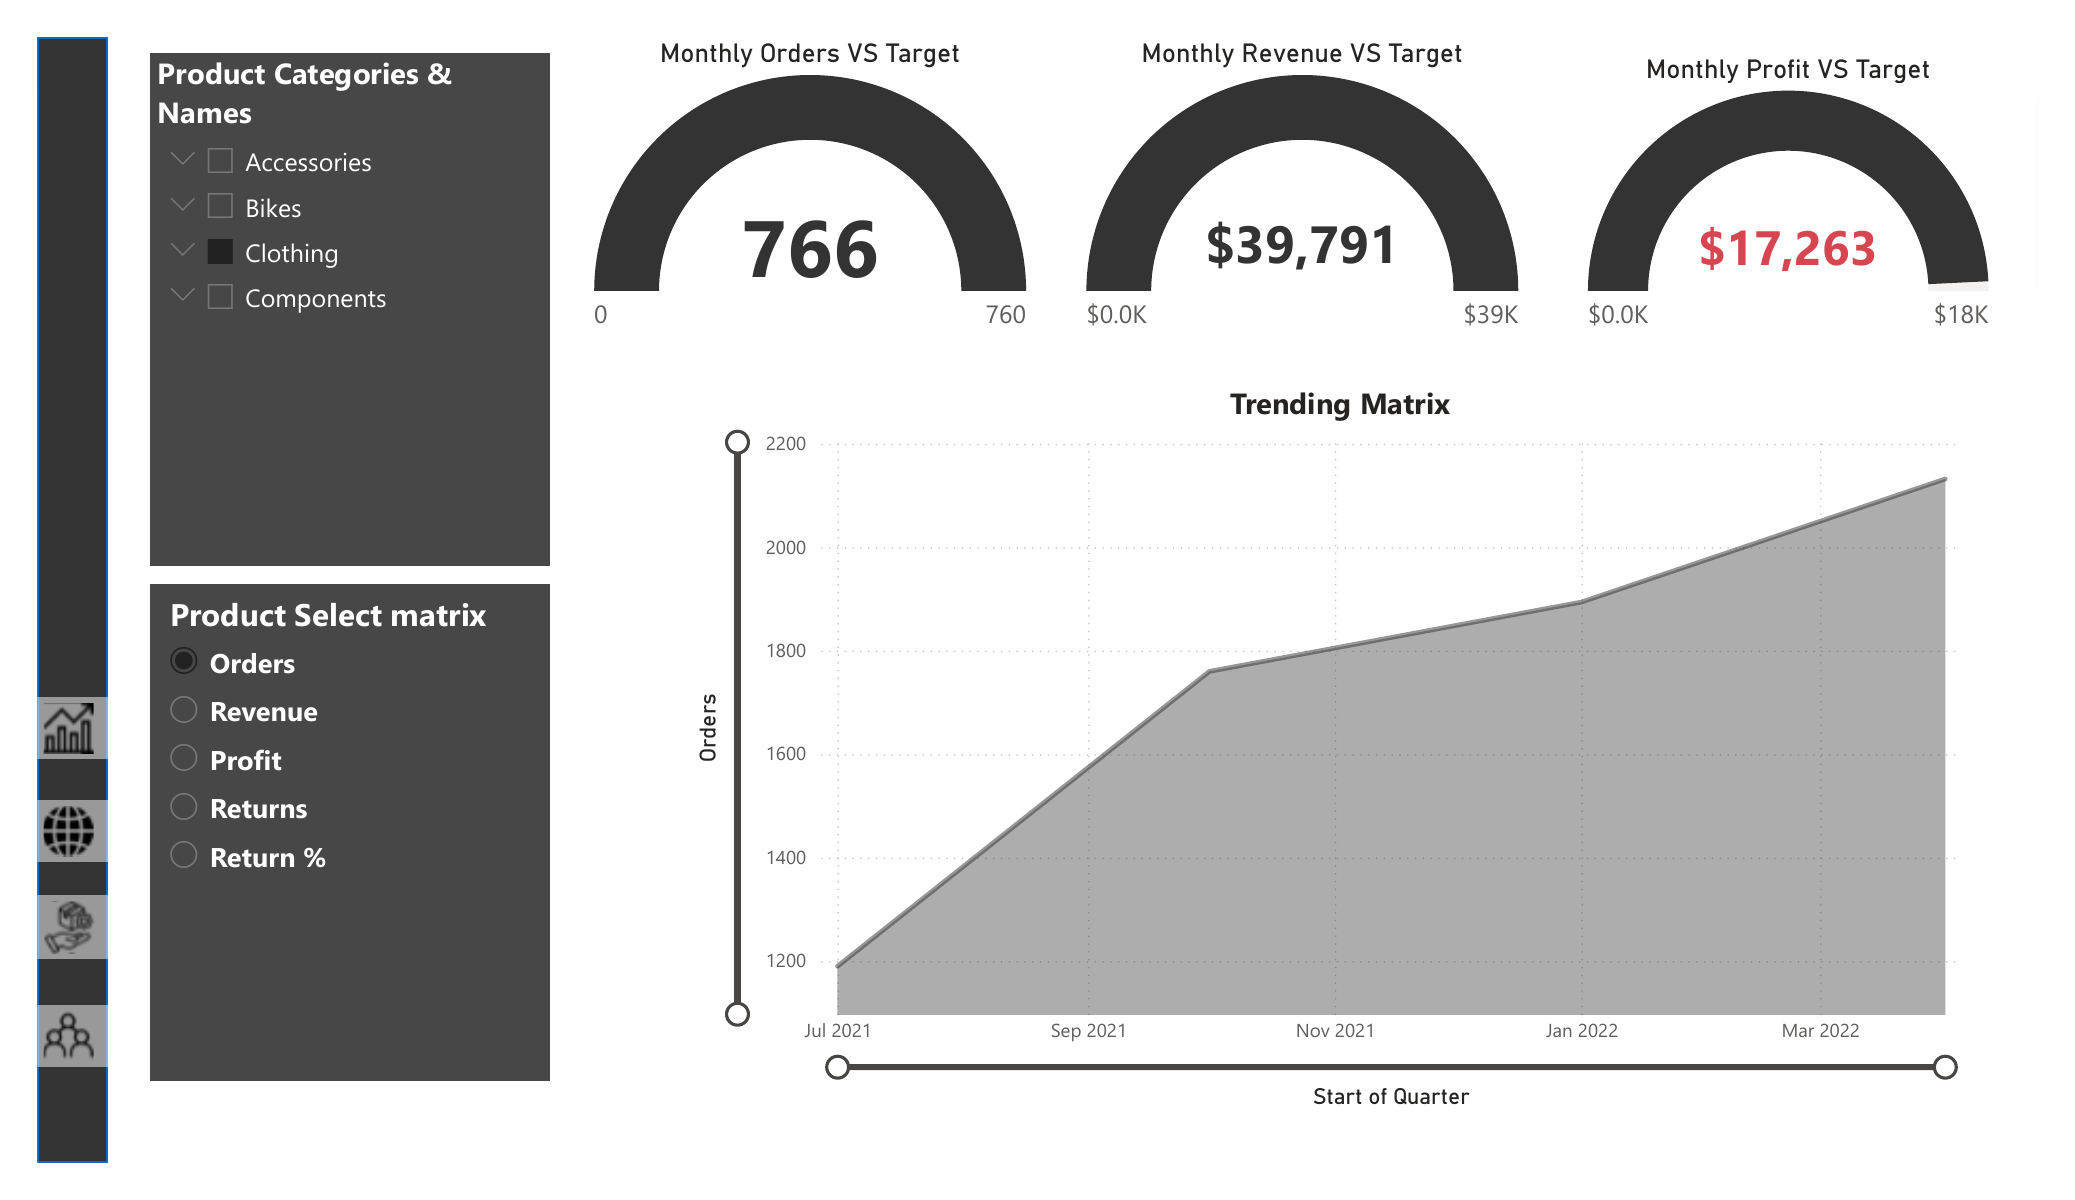

The dashboard page shown, as its layout file describes it:
{"tool":"powerbi","page":{"name":"Product","canvas":[1280,720],"ordinal":2},"visuals":[{"type":"gauge","title":"Monthly Orders VS Target ","fields":{"MaxValue":["Table Measures.Orders Target"],"Y":["Table Measures.Total orders"]},"box":[348.5,0,291,199.3],"z":0},{"type":"actionButton","box":[0,421.9,45.2,40.4],"z":0,"group":"g1"},{"type":"gauge","title":"Monthly Revenue VS Target ","fields":{"MaxValue":["Table Measures.Target Revenue"],"Y":["Table Measures.Total Revenue"]},"box":[664,0,291,199.3],"z":1000},{"type":"actionButton","box":[0,487.9,45.2,40.4],"z":1000,"group":"g1"},{"type":"gauge","title":"Monthly Profit VS Target ","fields":{"MaxValue":["Table Measures.Profit Target"],"Y":["Table Measures.Total Profit"]},"box":[977,9.8,287.4,189.5],"z":2000},{"type":"actionButton","box":[0,549.1,45.2,40.4],"z":2000,"group":"g1"},{"type":"shape","title":"Left nav Bar","box":[0,0,45,720],"z":3000},{"type":"actionButton","box":[0,618.8,45.2,40.4],"z":3000,"group":"g1"},{"type":"group","id":"g1","title":"Custom Nevigation Buttons ","box":[0,421.9,45.2,237.2],"z":4000},{"type":"areaChart","title":"Trending Matrix","fields":{"Category":["Calendar Lookup.Start of Quarter"],"Y":["Table Measures.Total orders"]},"box":[415.8,221.3,836.4,469.6],"z":5000},{"type":"slicer","fields":{"Values":["Product Select matrix.Product Select matrix"]},"box":[72.1,349.7,255.6,317.9],"z":6000},{"type":"slicer","title":"Product Categories & Names","fields":{"Values":["Product Categories Lookup.CategoryName","Product Lookup.ProductName"]},"box":[72.1,9.8,255.6,327.7],"z":7000}]}

Visuals, with their boxes on the page's 1280x720 design canvas (x1, y1, x2, y2). These are canvas units, not pixel positions in the 2075x1200 screenshot, which may show the page scaled, cropped or inside an application window:
"Monthly Orders VS Target " gauge: 348/0/640/199
actionButton: 0/422/45/462
"Monthly Revenue VS Target " gauge: 664/0/955/199
actionButton: 0/488/45/528
"Monthly Profit VS Target " gauge: 977/10/1264/199
actionButton: 0/549/45/590
"Left nav Bar" shape: 0/0/45/720
actionButton: 0/619/45/659
"Custom Nevigation Buttons " group: 0/422/45/659
"Trending Matrix" areaChart: 416/221/1252/691
slicer - Product Select matrix.Product Select matrix: 72/350/328/668
"Product Categories & Names" slicer: 72/10/328/338
